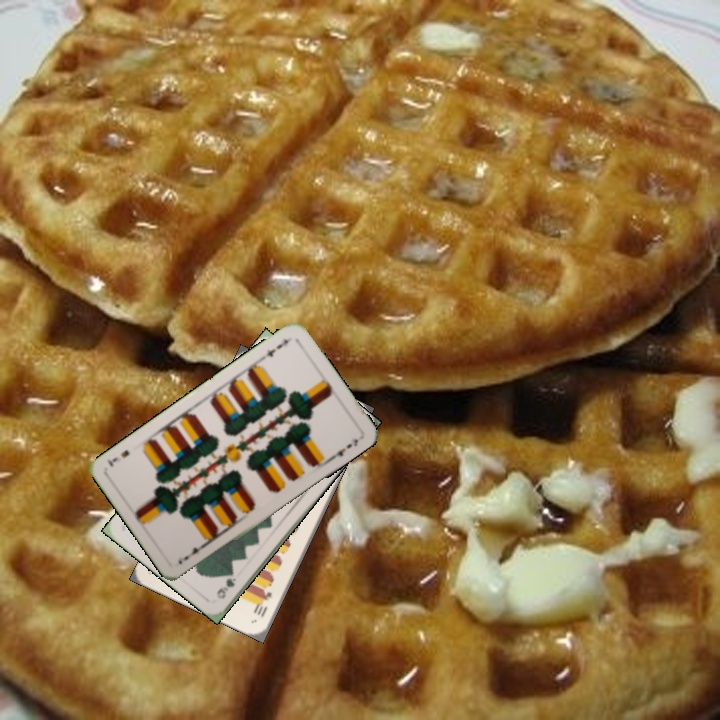E10: (251, 587, 275, 619)
E7: (262, 334, 291, 360), (179, 539, 209, 563)
G9: (212, 574, 239, 601)
